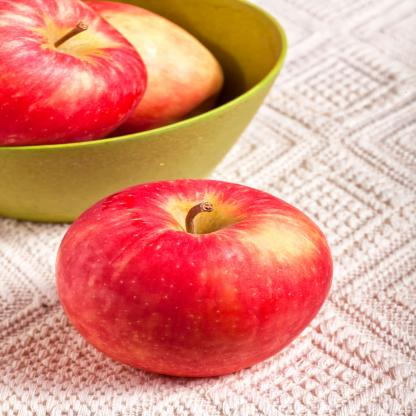apple: (40, 179, 335, 380), (38, 1, 229, 136), (0, 0, 149, 151)
